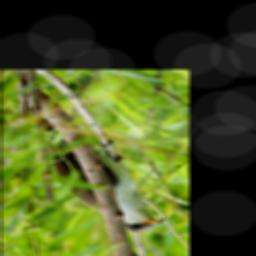Cuckoo: (19, 106, 169, 233)
